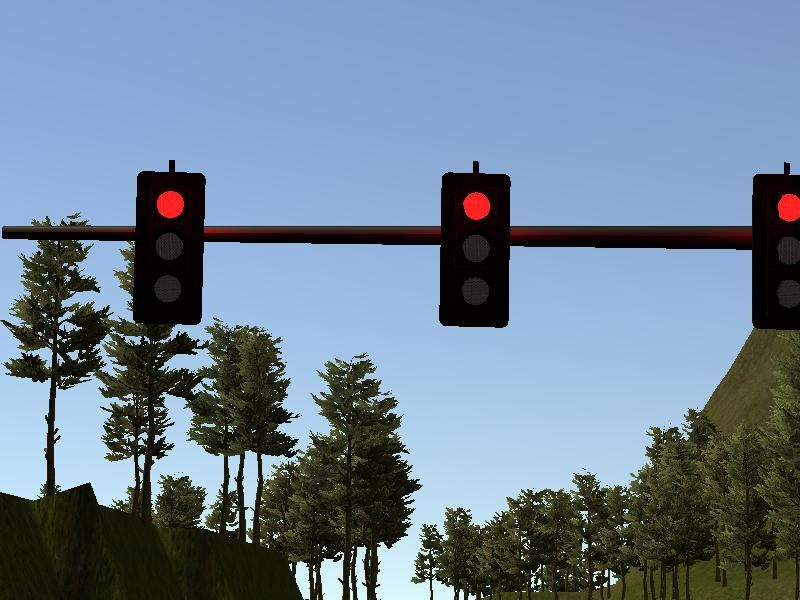Red: (435, 166, 516, 331), (130, 165, 208, 328), (746, 168, 800, 336)
